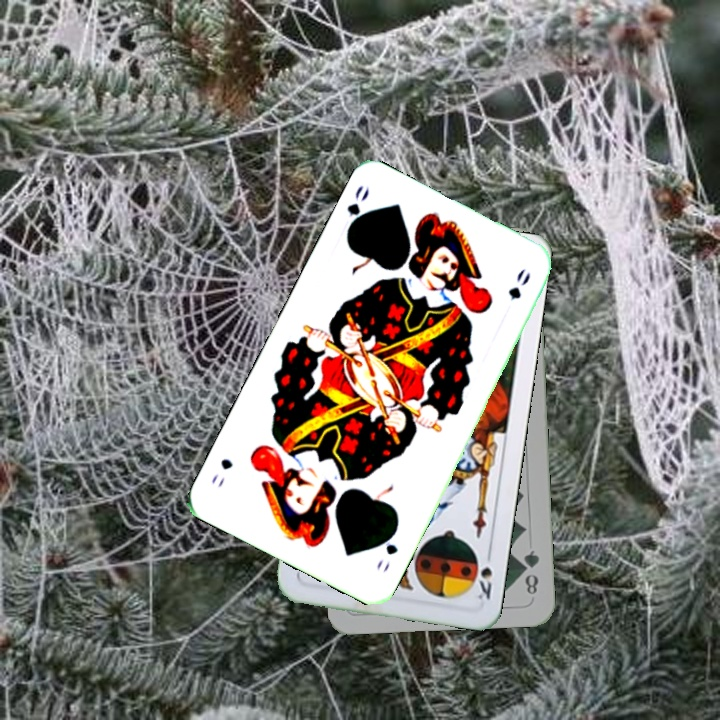G8: (518, 546, 542, 597)
GO: (342, 181, 372, 239), (372, 524, 401, 575)
SK: (473, 546, 495, 602)
